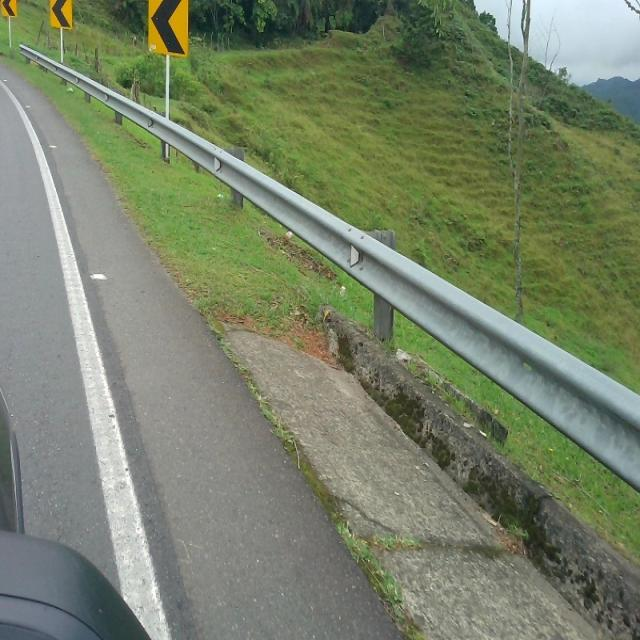DITCH: (7, 28, 638, 638), (321, 304, 638, 638)
